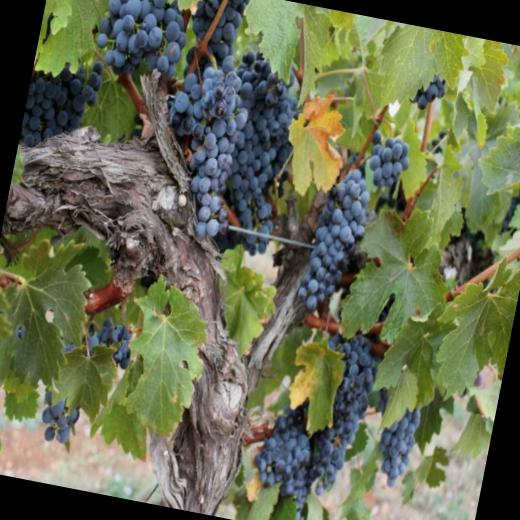Orange: (59, 0, 323, 263), (240, 312, 385, 520), (36, 308, 138, 452), (295, 160, 377, 318), (88, 0, 198, 87), (17, 50, 103, 160), (362, 387, 423, 489), (65, 313, 135, 368), (360, 128, 414, 194), (38, 400, 79, 444), (410, 70, 448, 112), (502, 184, 520, 234)
